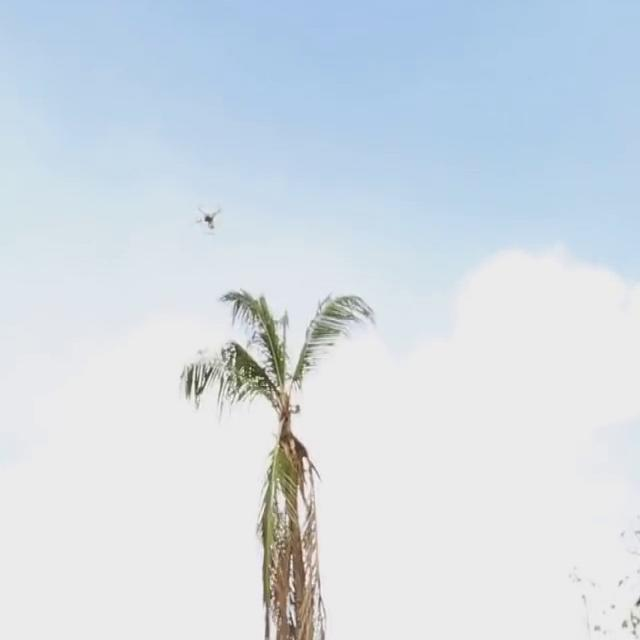drone: (192, 202, 234, 237)
